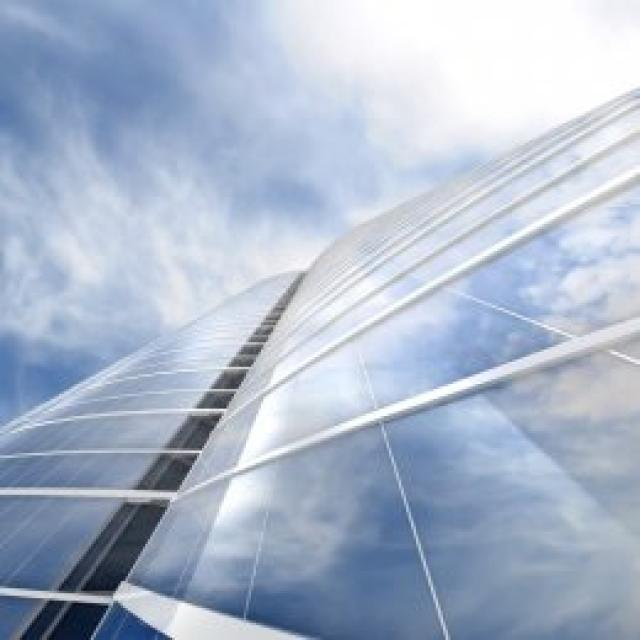clean-solar-panel: (0, 88, 640, 640)
